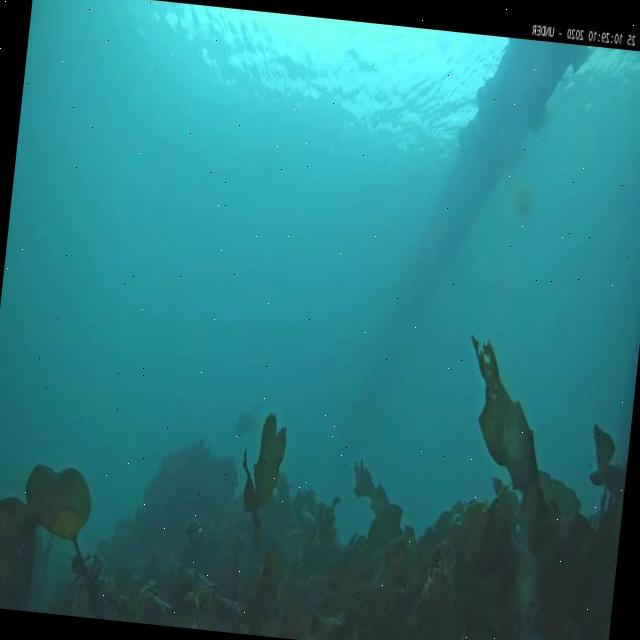fish: (232, 412, 258, 436)
